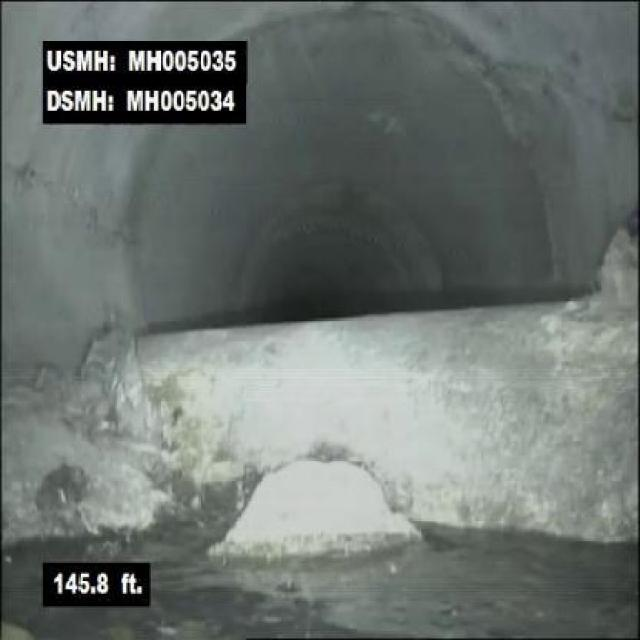Utility intrusion: (104, 292, 638, 551)
